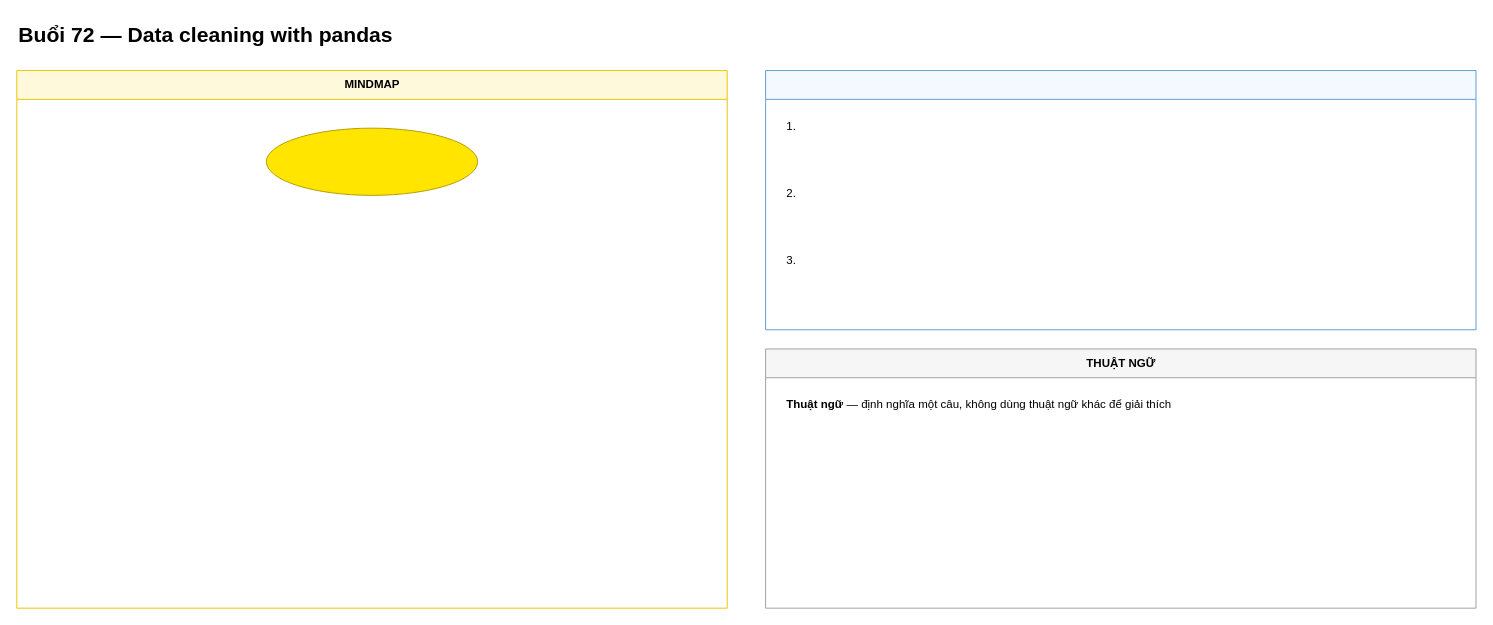
The diagram is 1493 pixels wide and 625 high, and some of its shapes have lost their labels. Here are the shapes that lost their labels. From the top down, the box of each, then its label:
(265, 127, 478, 195): Data cleaning with pandas
(765, 70, 1476, 330): KEY TAKEAWAY — ba điều phải nhớ
